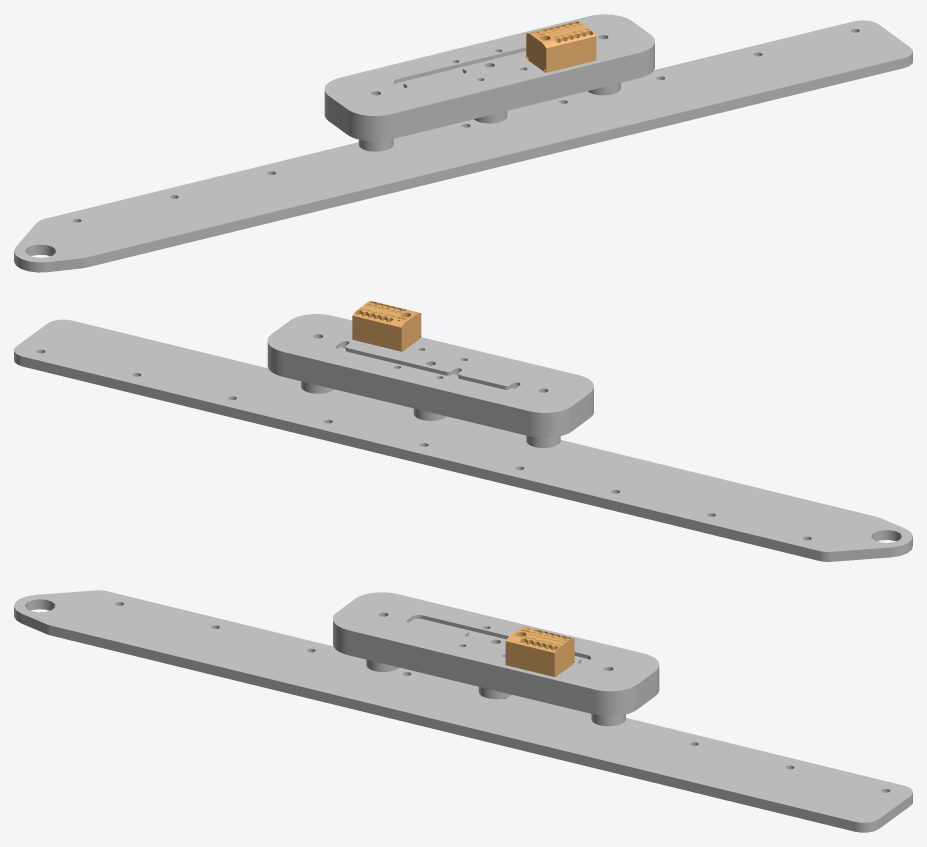
Rendered from mechmind.glb.
3 views of the same model, one above another, from view 1: azimuth 30°, elevation 25°; view 2: azimuth 150°, elevation 25°; view 3: azimuth 330°, elevation 25° (orthographic).
Visible parts, largest first — view 1: LSR-M4-8_E Support Copy, End of arm tooling, 3273370; view 2: LSR-M4-8_E Support Copy, End of arm tooling, 3273370; view 3: LSR-M4-8_E Support Copy, End of arm tooling, 3273370.
Part boxes in pixels (box(x1,y1,x2,y2)): LSR-M4-8_E Support Copy: box(14, 20, 912, 272); End of arm tooling: box(324, 14, 654, 141); 3273370: box(526, 21, 596, 72); LSR-M4-8_E Support Copy: box(14, 319, 912, 561); End of arm tooling: box(267, 314, 593, 437); 3273370: box(352, 301, 421, 351); LSR-M4-8_E Support Copy: box(14, 590, 912, 832); End of arm tooling: box(333, 592, 659, 716); 3273370: box(505, 626, 574, 676).
Size of the model in its own units: 0.7268 by 0.0849 by 0.0725.
